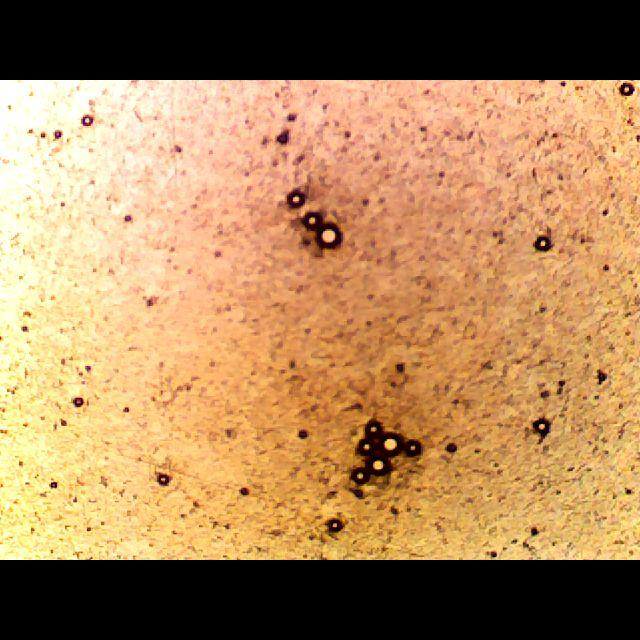microbeads: (312, 220, 348, 250), (376, 433, 409, 457), (300, 208, 326, 232), (284, 188, 306, 210), (354, 438, 376, 458), (362, 419, 384, 438), (350, 467, 370, 487)
